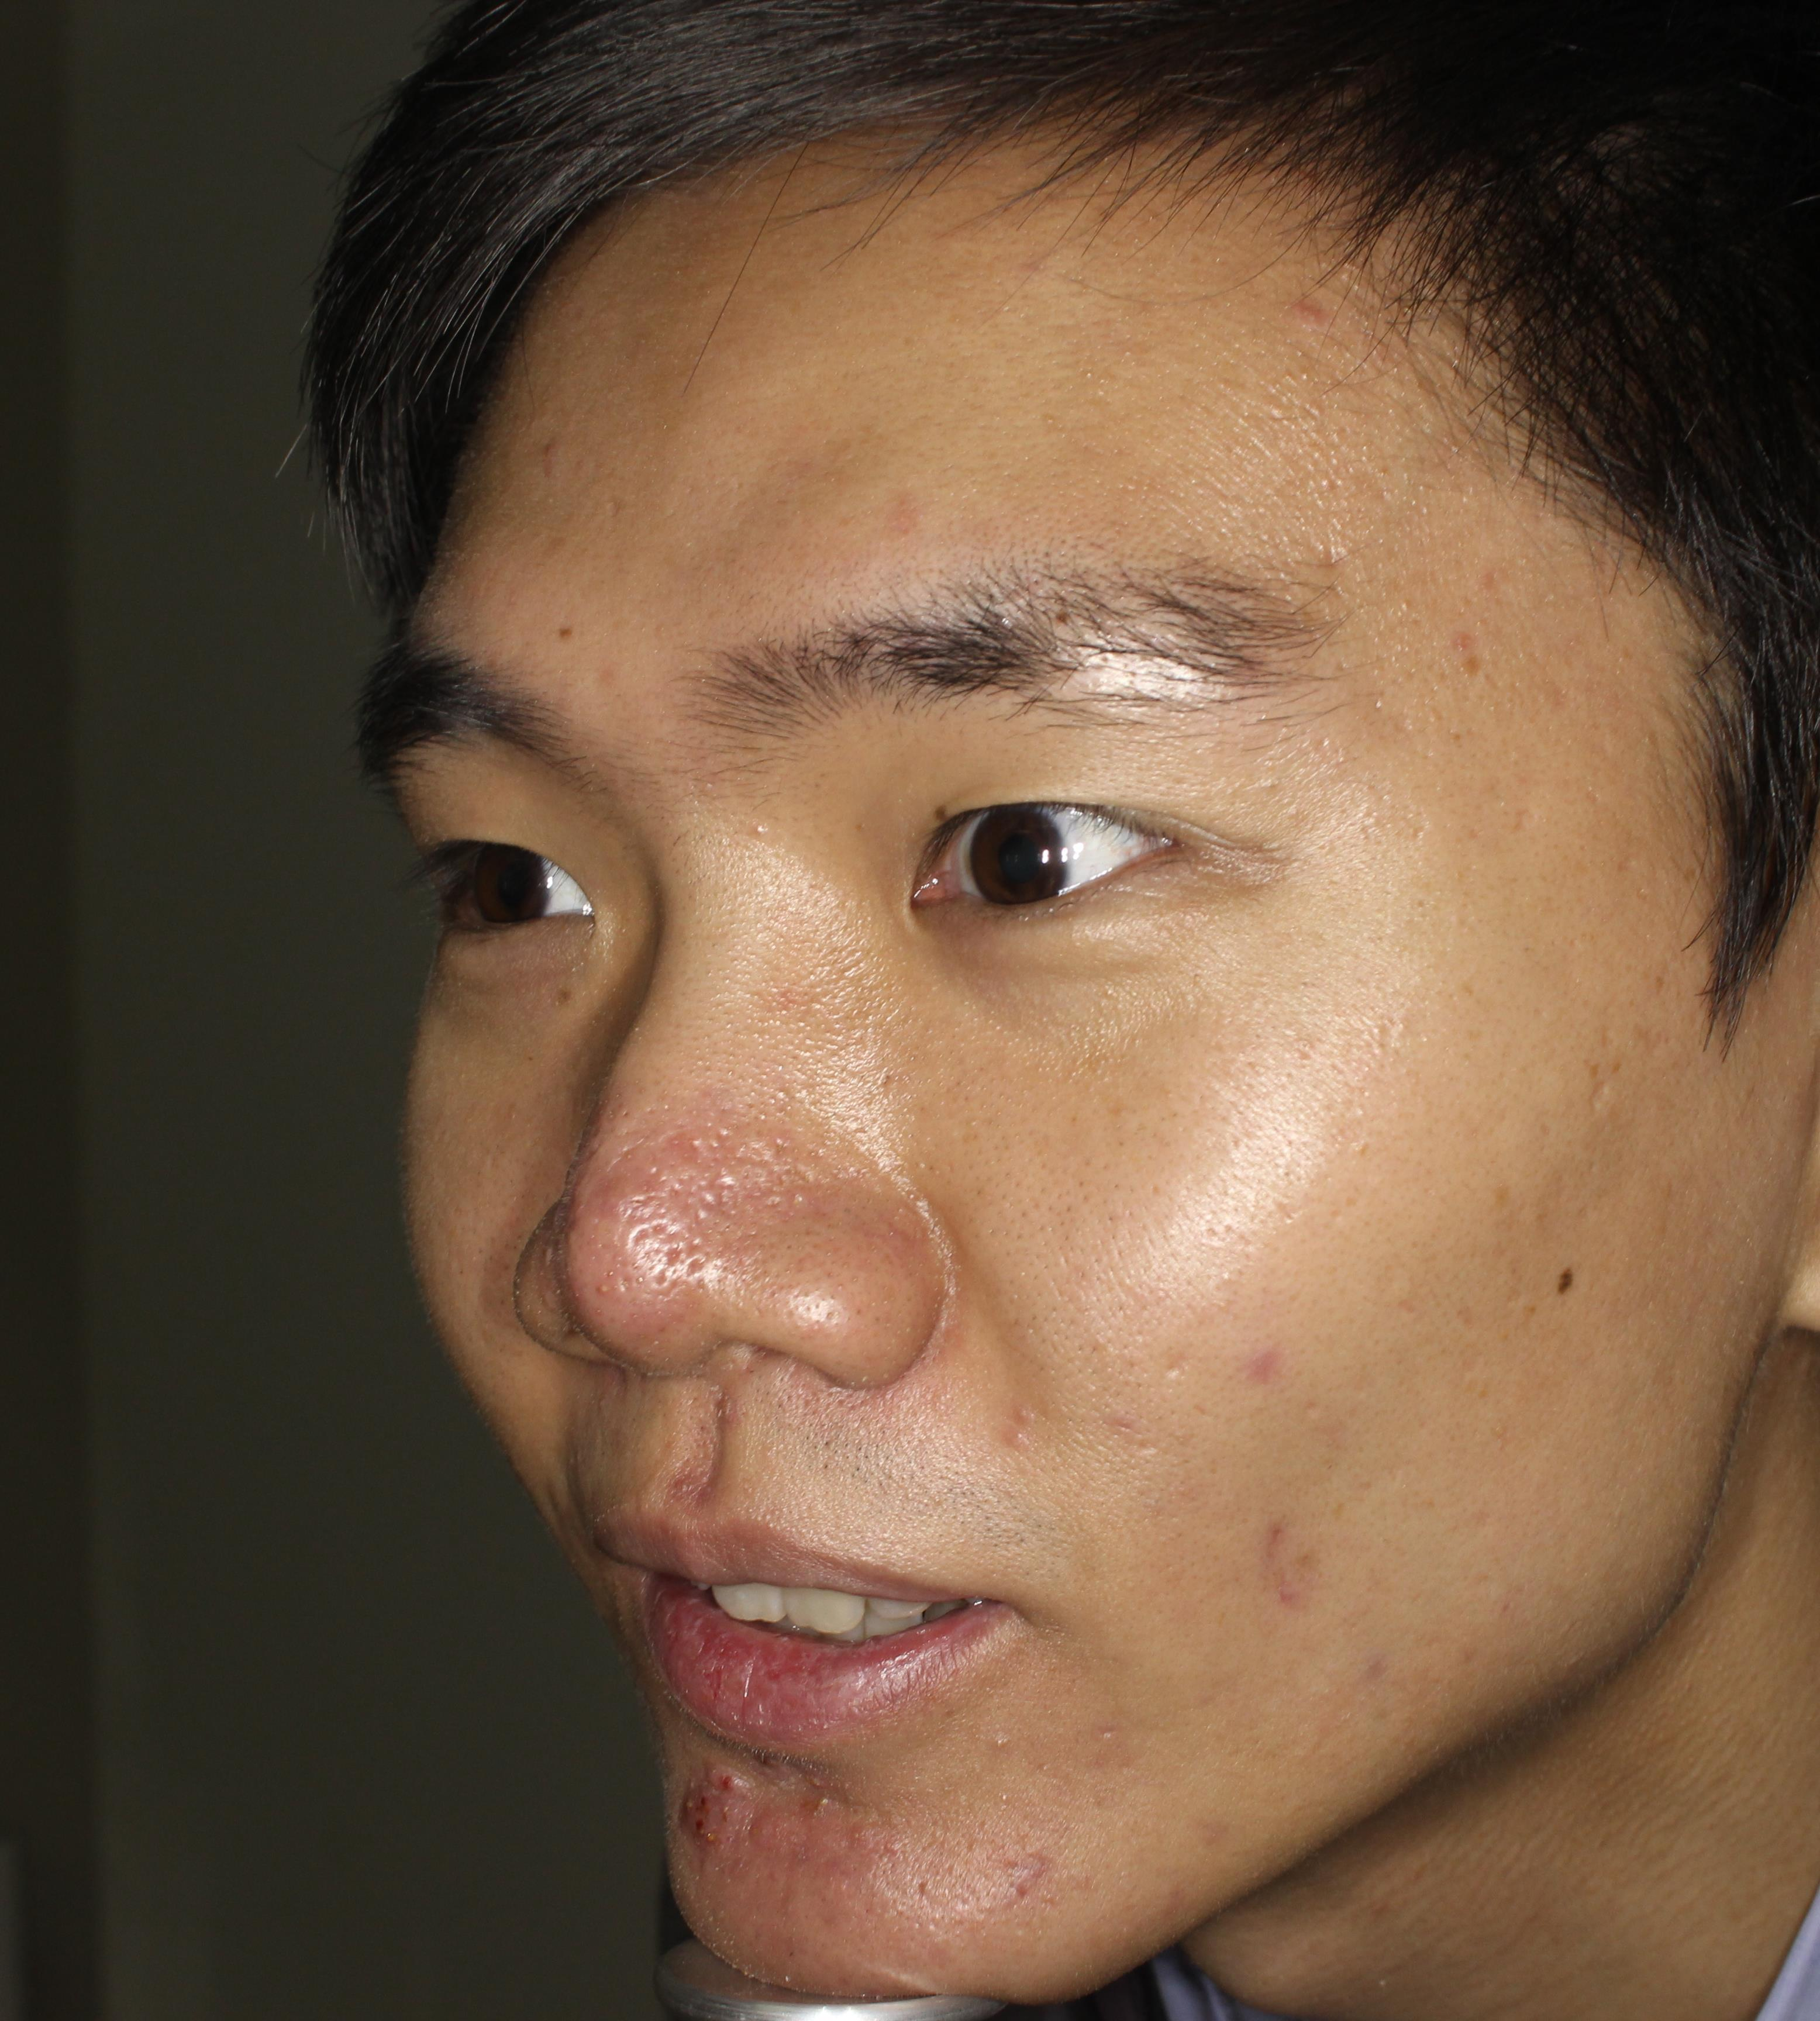fore: (669, 1759, 776, 1875), (1251, 1500, 1332, 1617), (987, 1831, 1077, 1907), (1228, 1329, 1291, 1410)
